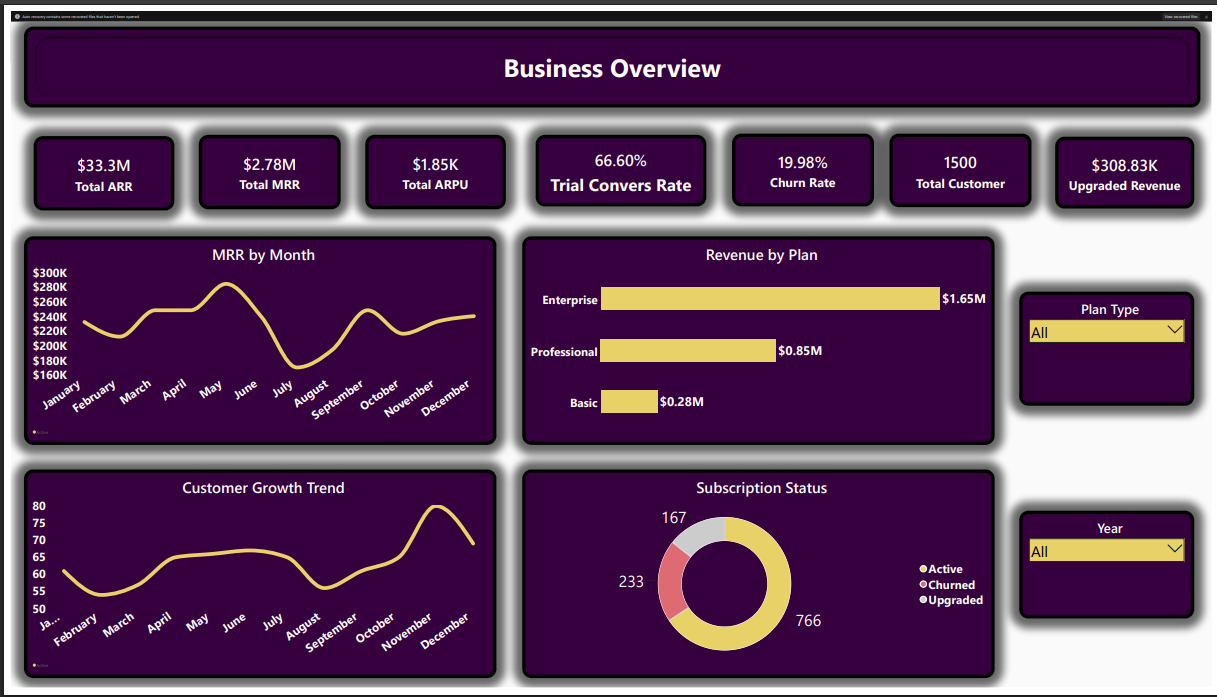

The page's visual inventory and layout, read from the dashboard file:
{"tool":"powerbi","page":{"name":"BUSINESS OVERVIEW","canvas":[3840,2160],"ordinal":0},"visuals":[{"type":"shape","box":[43.3,47.6,3761.3,259.7],"z":0},{"type":"card","title":"Total Revenue","fields":{"Values":["crm_subscriptions_clean.Total Revenue"]},"box":[601.6,393.9,454.5,238.1],"z":1000},{"type":"card","title":"Total Revenue","fields":{"Values":["crm_subscriptions_clean.Total APR"]},"box":[73.6,398.2,450.1,238.1],"z":2000},{"type":"card","title":"Total Revenue","fields":{"Values":["crm_subscriptions_clean.Total ARPU"]},"box":[1134,393.9,450.1,238.1],"z":3000},{"type":"card","title":"Total Revenue","fields":{"Values":["crm_subscriptions_clean.Total Customer"]},"box":[2810,390,455,235],"z":4000},{"type":"card","title":"Total Revenue","fields":{"Values":["crm_subscriptions_clean.Trial Conversion Rate"]},"box":[1679.4,393.9,545.4,229.4],"z":5000},{"type":"card","title":"Total Revenue","fields":{"Values":["crm_customers_clean.Upgraded Revenue"]},"box":[3340,400,445,230],"z":6000},{"type":"card","title":"Total Revenue","fields":{"Values":["crm_subscriptions_clean.Churn Rate"]},"box":[2307,389.5,454.5,233.7],"z":7000},{"type":"lineChart","title":"MRR by Month","fields":{"Category":["crm_subscriptions_clean.start_date.Variation.Date Hierarchy.Month"],"Series":["crm_subscriptions_clean.status"],"Y":["crm_subscriptions_clean.Total MRR"]},"box":[43.3,718.5,1510.6,666.6],"z":8000},{"type":"donutChart","title":"Subscription Status ","fields":{"Category":["crm_subscriptions_clean.status"],"Y":["CountNonNull(crm_subscriptions_clean.subscription_id)"]},"box":[1636.1,1463,1510.6,666.6],"z":9000},{"type":"lineChart","title":"Customer Growth Trend","fields":{"Category":["crm_subscriptions_clean.start_date.Variation.Date Hierarchy.Month"],"Series":["crm_subscriptions_clean.status"],"Y":["crm_subscriptions_clean.Active Users"]},"box":[43.3,1463,1510.6,666.6],"z":10000},{"type":"clusteredBarChart","title":"Revenue by Plan ","fields":{"Category":["crm_subscriptions_clean.plan_type"],"Series":["crm_subscriptions_clean.status"],"Y":["crm_subscriptions_clean.Total MRR"]},"box":[1636.1,718.5,1510.6,666.6],"z":11000},{"type":"slicer","title":"Plan Type","fields":{"Values":["crm_subscriptions_clean.plan_type"]},"box":[3225,895,560,365],"z":12000},{"type":"slicer","title":"Year","fields":{"Values":["crm_subscriptions_clean.start_date.Variation.Date Hierarchy.Year"]},"box":[3225,1595,560,345],"z":13000}]}

Visuals, with their boxes on the page's 3840x2160 design canvas (x1, y1, x2, y2). These are canvas units, not pixel positions in the 1217x697 screenshot, which may show the page scaled, cropped or inside an application window:
shape: crop(43, 48, 3805, 307)
"Total Revenue" card: crop(602, 394, 1056, 632)
"Total Revenue" card: crop(74, 398, 524, 636)
"Total Revenue" card: crop(1134, 394, 1584, 632)
"Total Revenue" card: crop(2810, 390, 3265, 625)
"Total Revenue" card: crop(1679, 394, 2225, 623)
"Total Revenue" card: crop(3340, 400, 3785, 630)
"Total Revenue" card: crop(2307, 390, 2762, 623)
"MRR by Month" lineChart: crop(43, 718, 1554, 1385)
"Subscription Status " donutChart: crop(1636, 1463, 3147, 2130)
"Customer Growth Trend" lineChart: crop(43, 1463, 1554, 2130)
"Revenue by Plan " clusteredBarChart: crop(1636, 718, 3147, 1385)
"Plan Type" slicer: crop(3225, 895, 3785, 1260)
"Year" slicer: crop(3225, 1595, 3785, 1940)
